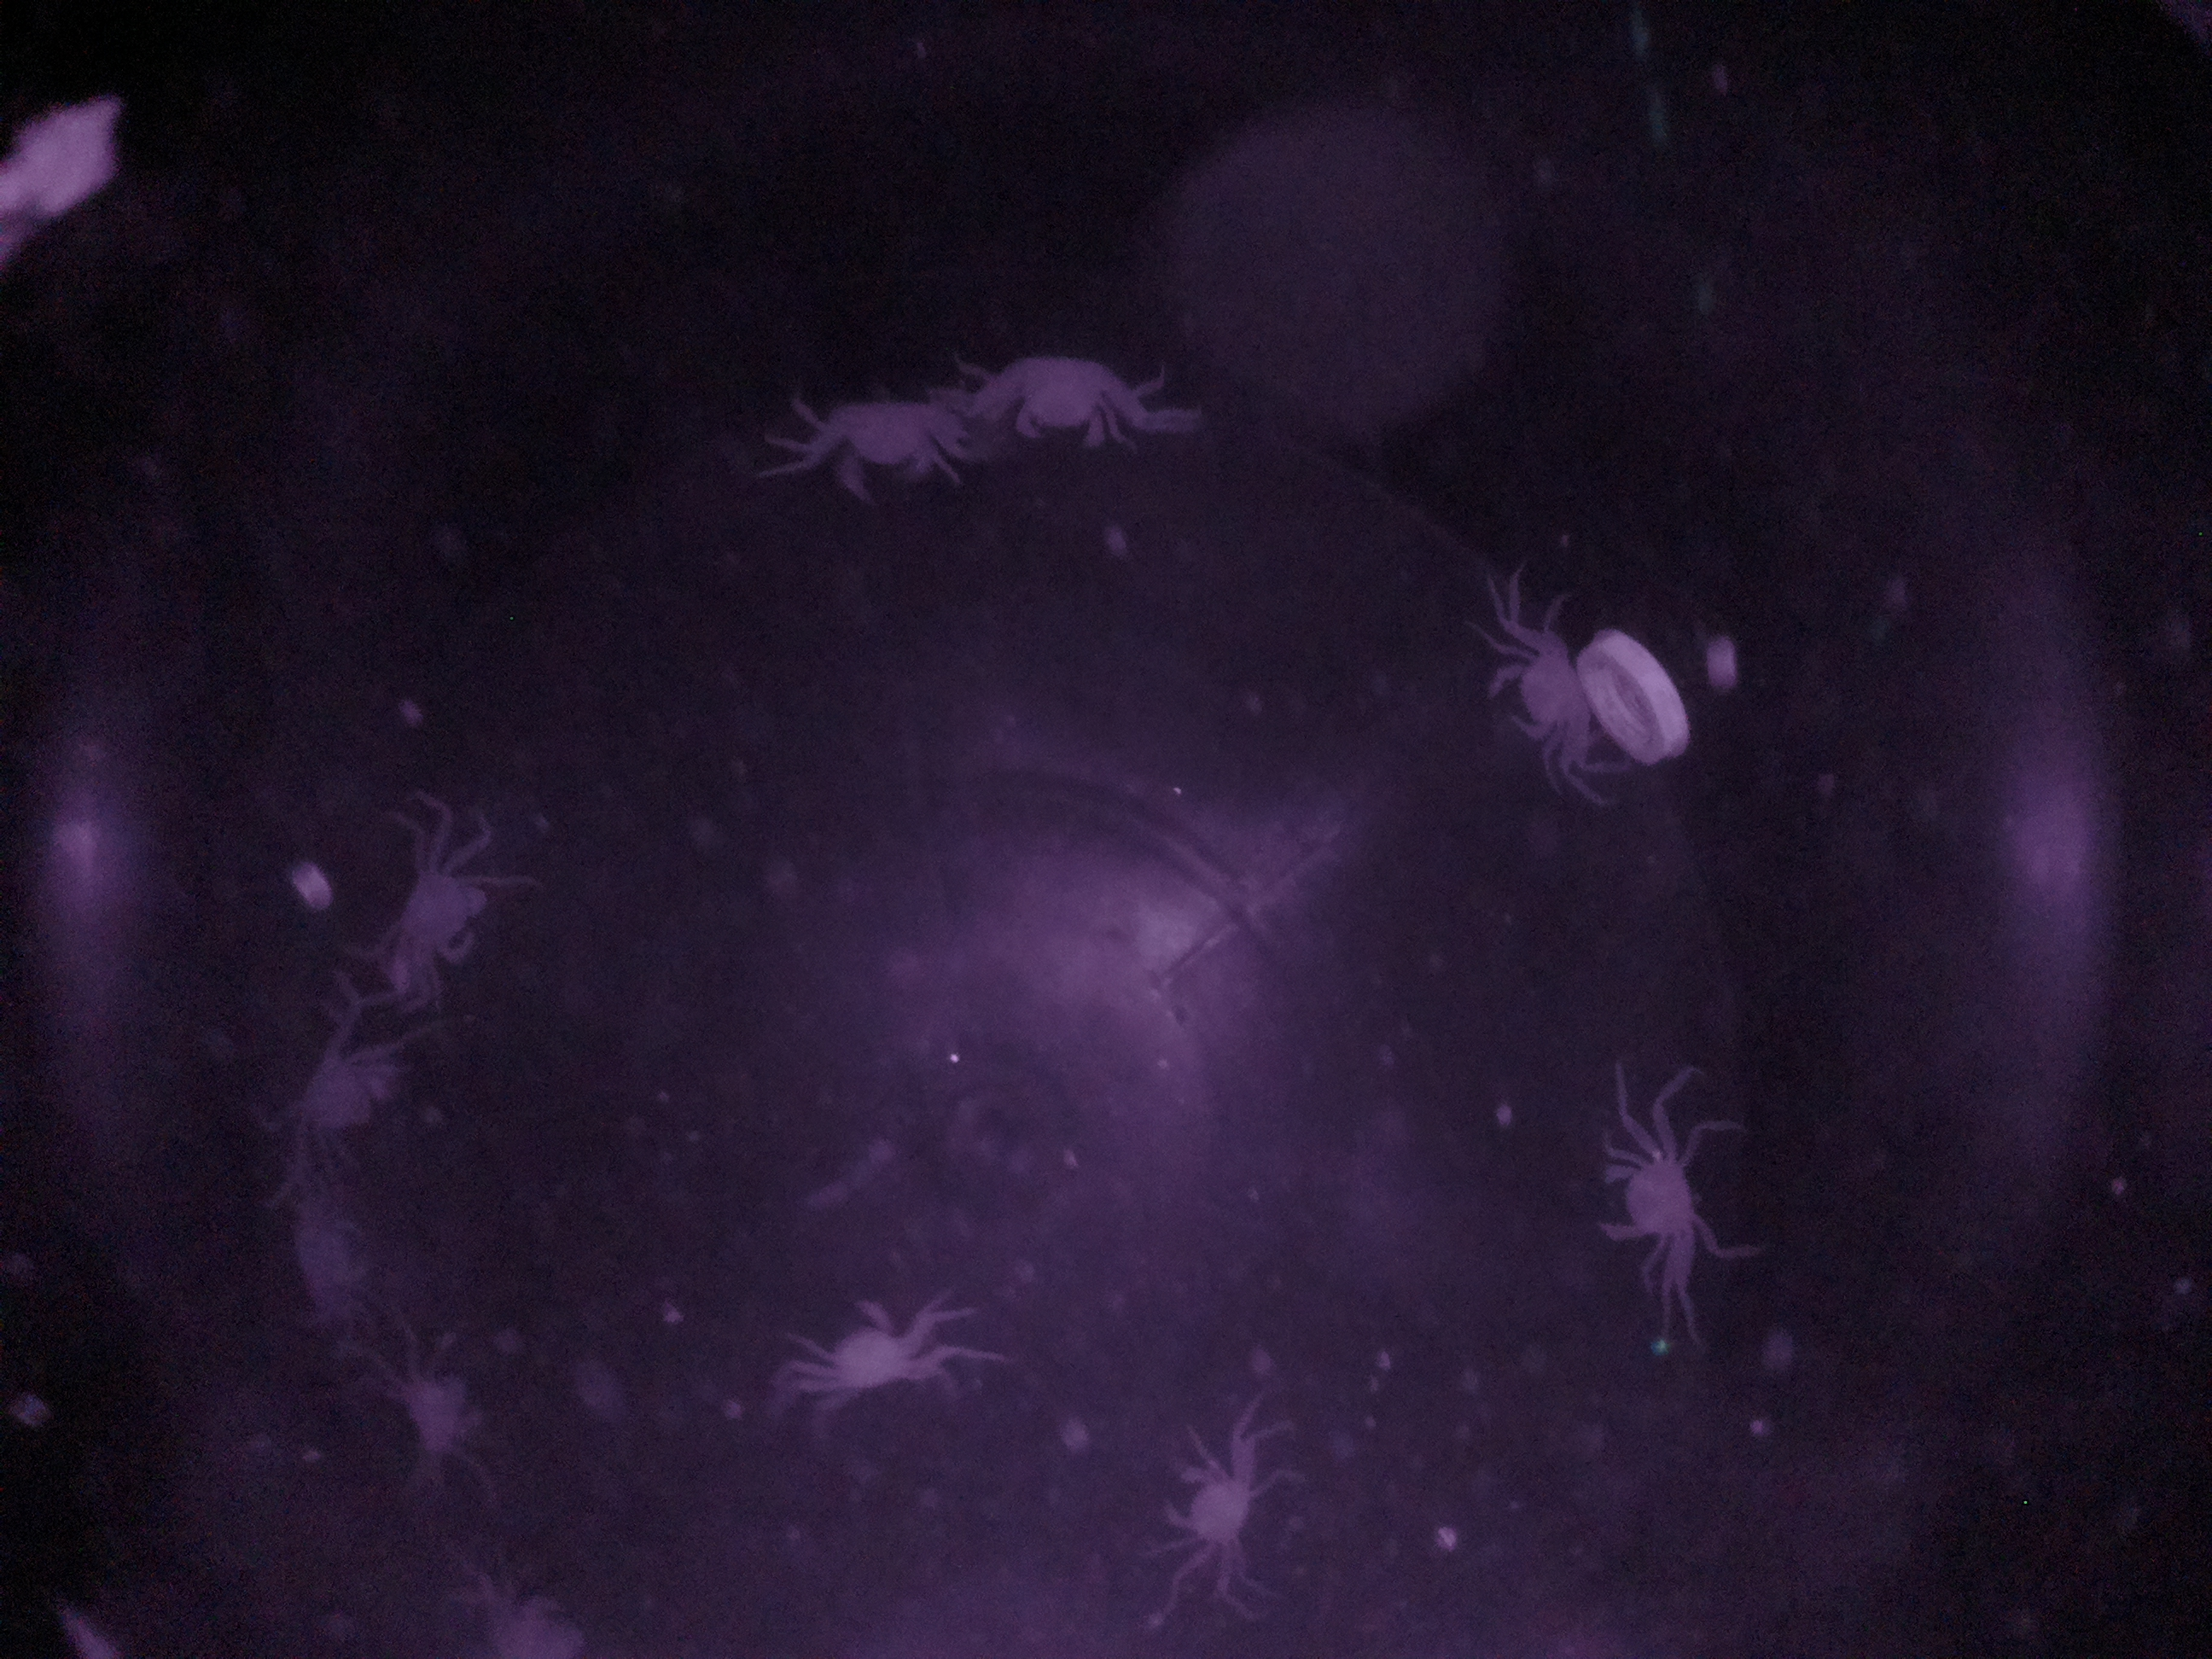Crab: (796, 361, 981, 525), (364, 817, 512, 1009), (1581, 1087, 1716, 1290), (979, 324, 1155, 474), (1136, 1417, 1285, 1588)
